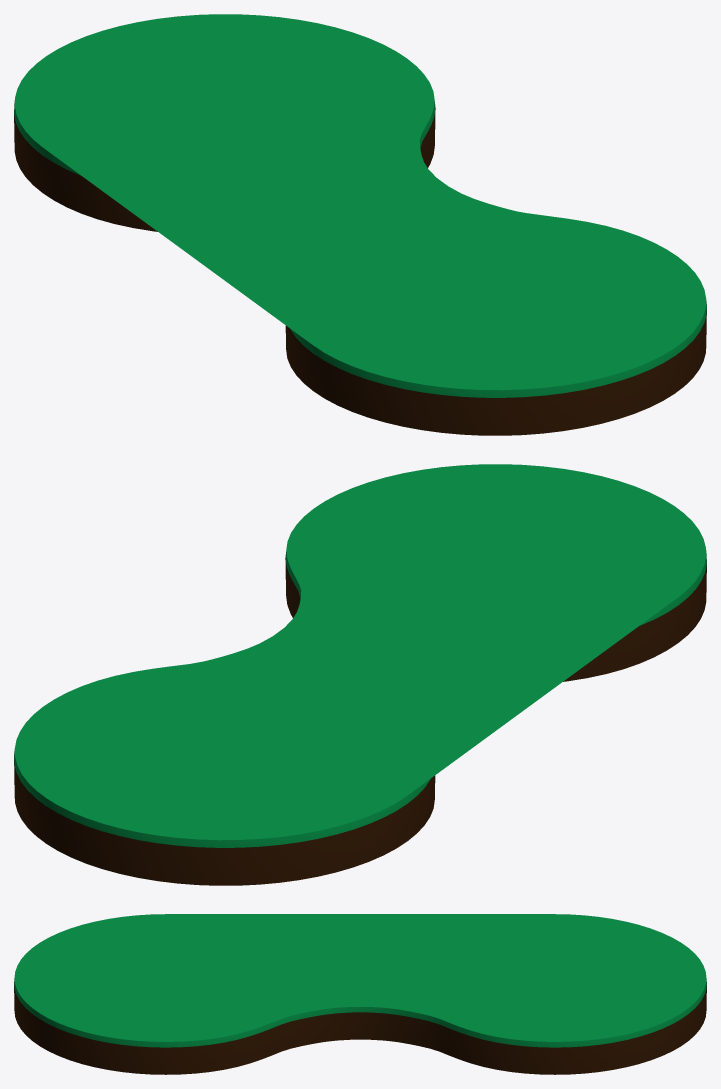
Rendered from Maket (1).fbx.
The picture shows the model from 3 angles, top to bottom: view 1: azimuth 30°, elevation 25°; view 2: azimuth 150°, elevation 25°; view 3: azimuth 270°, elevation 25°; orthographic projection. The views are drawn at different scales.
Visible parts, largest first — view 1: On.002; view 2: On.002; view 3: On.002.
Boxes of the visible parts, box(x1,y1,x2,y2) form: On.002: box(14, 14, 706, 435); On.002: box(14, 464, 706, 885); On.002: box(14, 914, 706, 1074).
Size of the model in its own units: 19.23 by 2.29 by 43.87.
